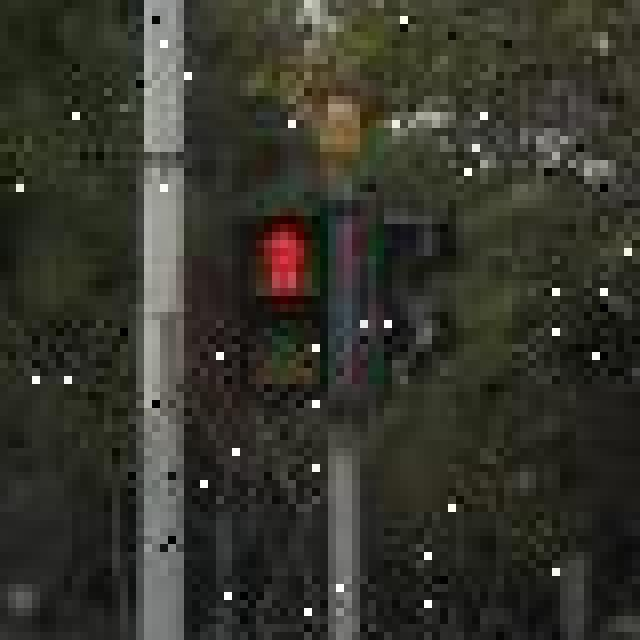redlight: (245, 209, 333, 407)
